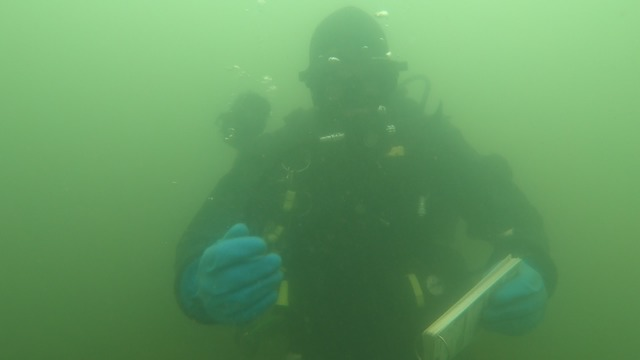Diver: (168, 4, 562, 358)
Hand: (183, 217, 298, 332), (468, 256, 556, 338)
Head: (298, 0, 412, 146)
